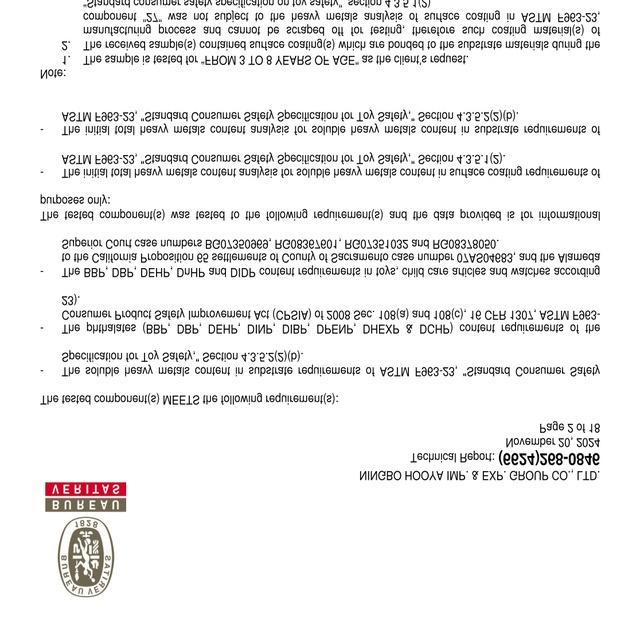bureau_veritas: (42, 478, 132, 601)
